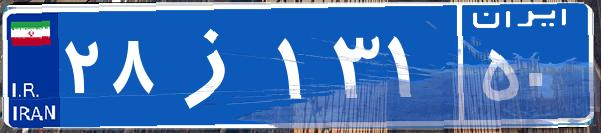0: (525, 38, 570, 115)
1: (385, 28, 445, 110), (273, 28, 330, 110)
2: (57, 26, 110, 107)
3: (330, 28, 385, 110)
5: (475, 38, 525, 113)
8: (110, 28, 158, 105)
ز: (158, 15, 273, 115)
